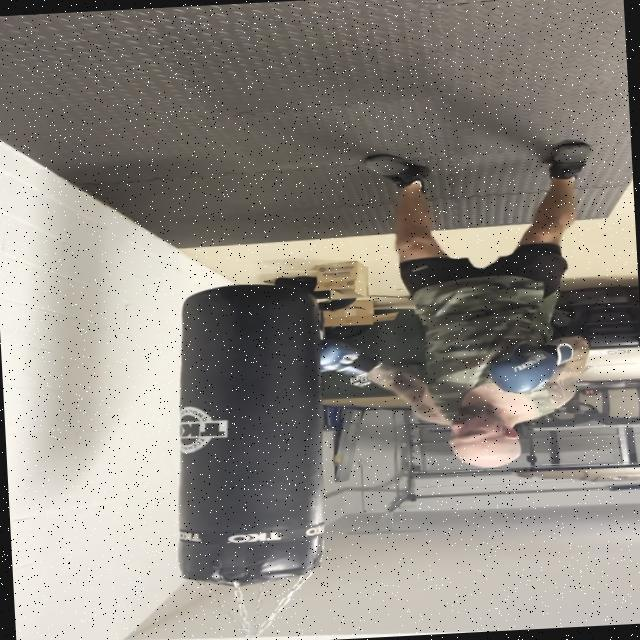punch: (302, 316, 590, 488)
